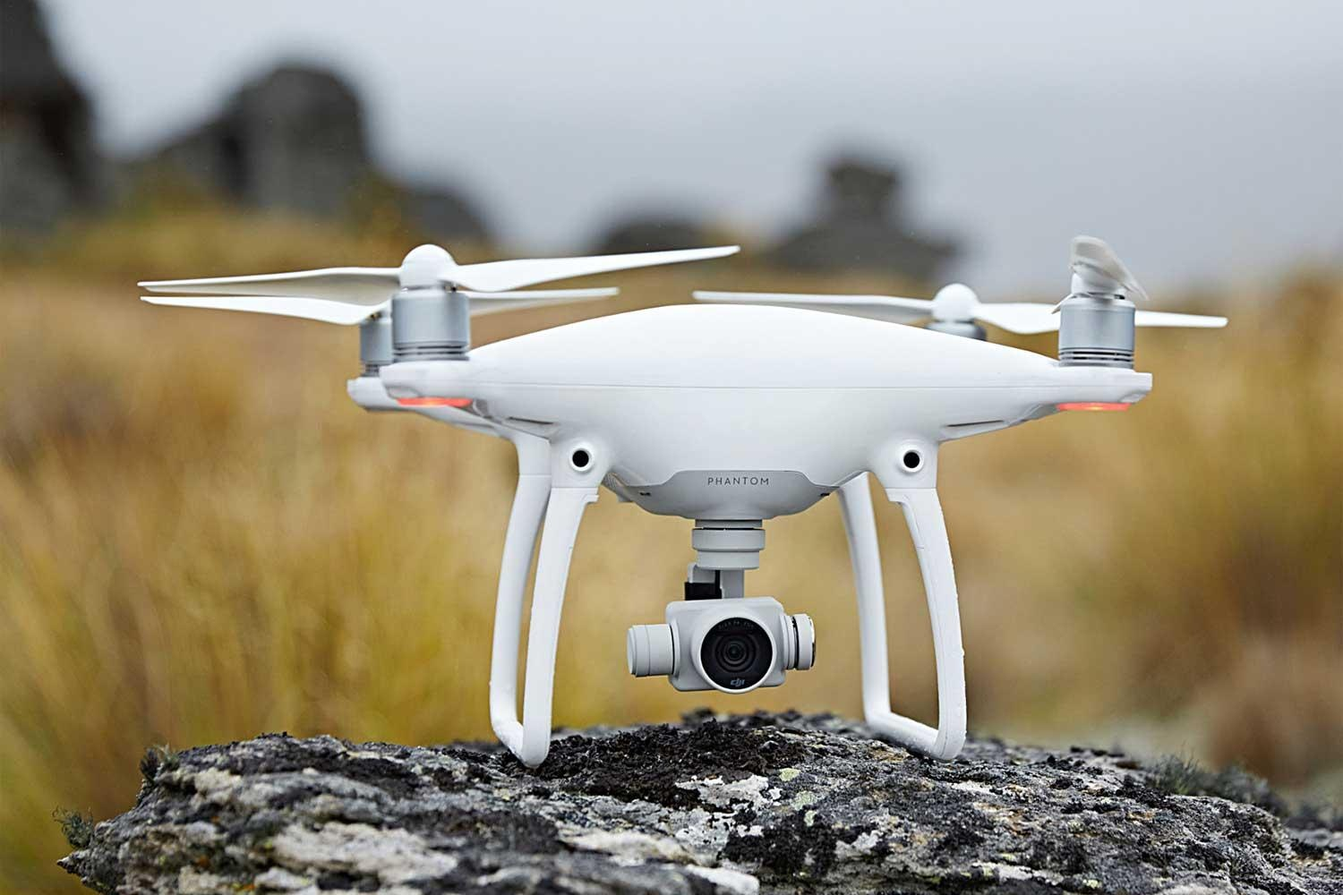aircraft: (133, 244, 1180, 771)
